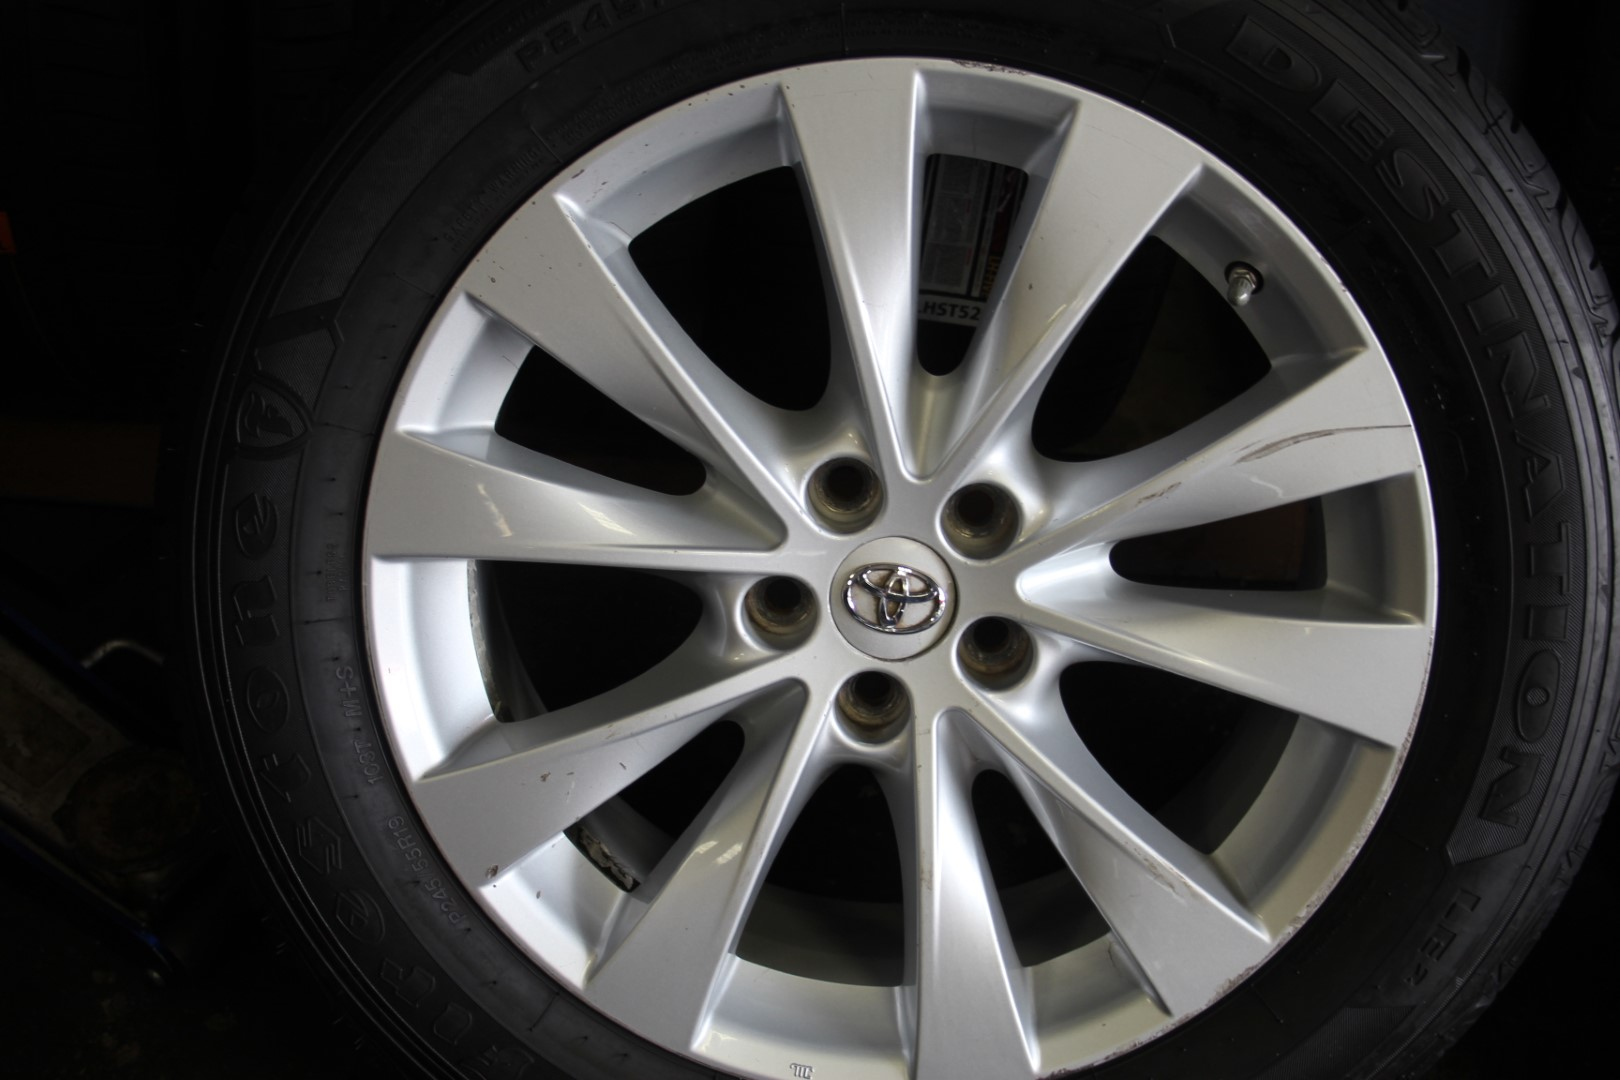m: (934, 468, 1035, 569), (791, 447, 891, 541), (728, 567, 822, 664), (829, 659, 916, 752), (947, 614, 1041, 698)
